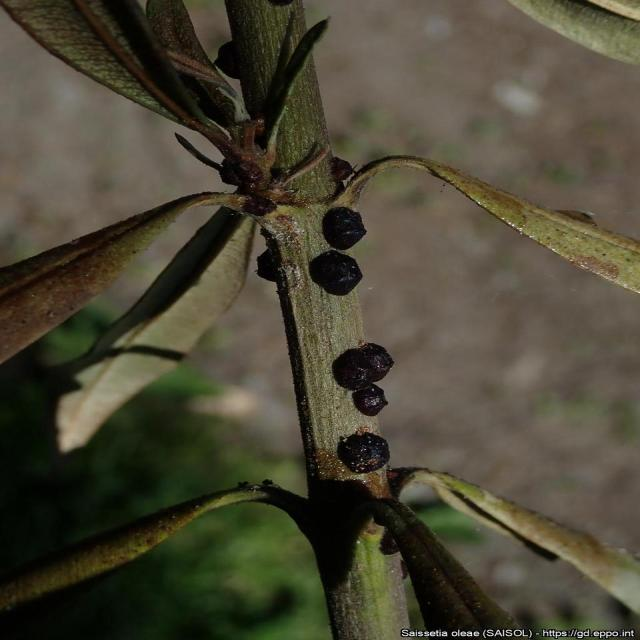Black Scale: (332, 343, 393, 416), (309, 249, 363, 296), (337, 429, 389, 474), (323, 207, 366, 250), (213, 40, 243, 82), (256, 247, 281, 283), (555, 210, 600, 230), (241, 198, 277, 218), (330, 157, 354, 187)
